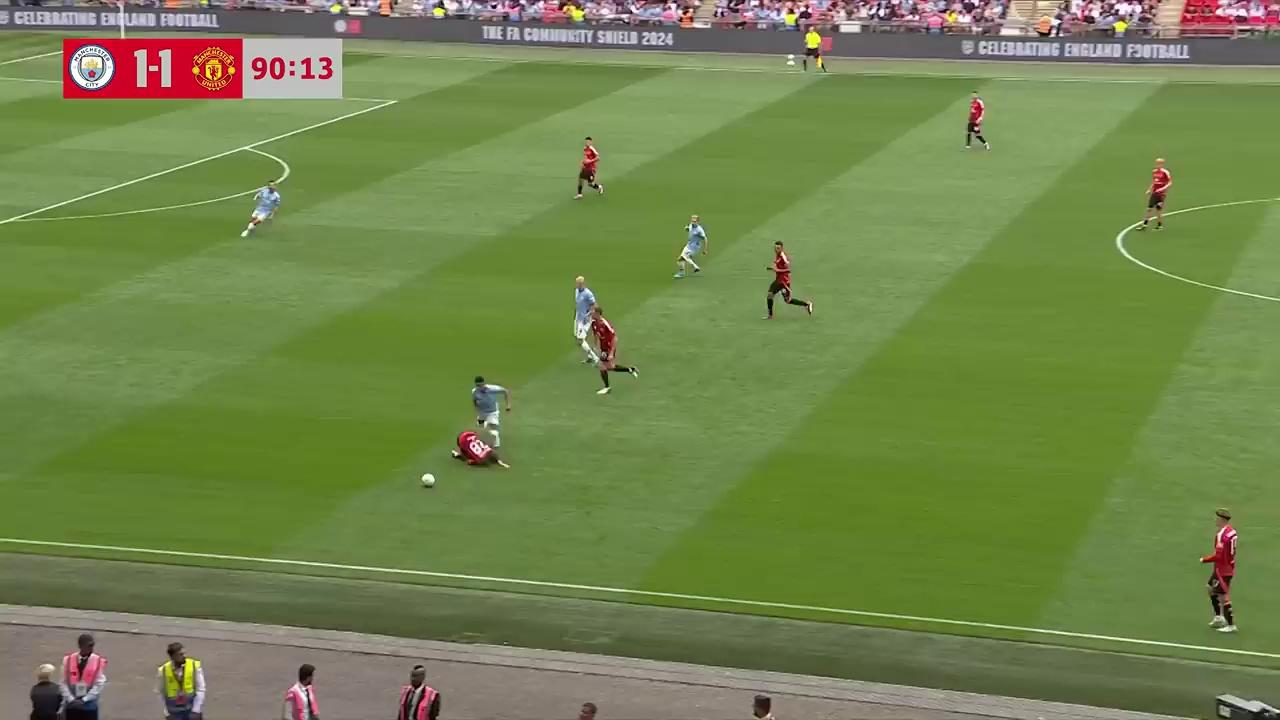ball: (420, 469, 436, 488)
player: (450, 372, 511, 468), (1200, 509, 1238, 634), (592, 309, 638, 394), (764, 240, 810, 320), (472, 375, 511, 465), (450, 419, 509, 468), (241, 179, 281, 238), (673, 214, 708, 278), (573, 285, 599, 363), (1141, 163, 1170, 232), (574, 136, 603, 198), (963, 94, 989, 151)
referee: (802, 26, 827, 74)
